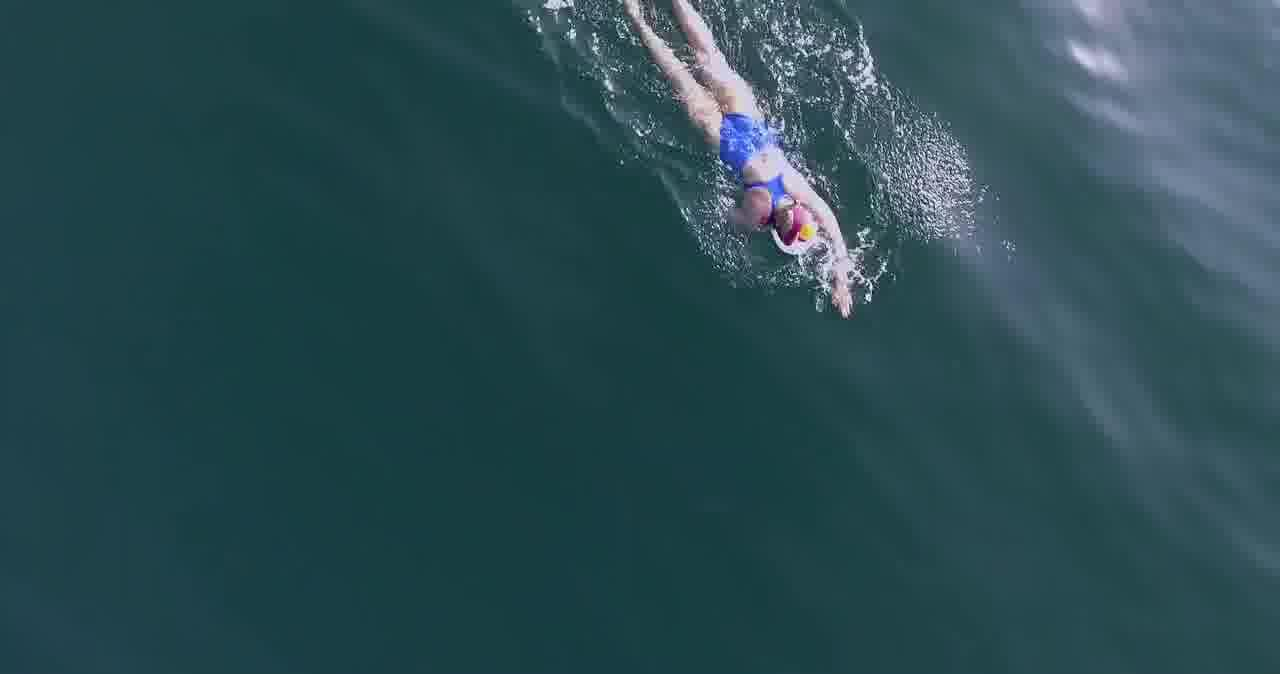swimmer: (635, 11, 907, 330)
